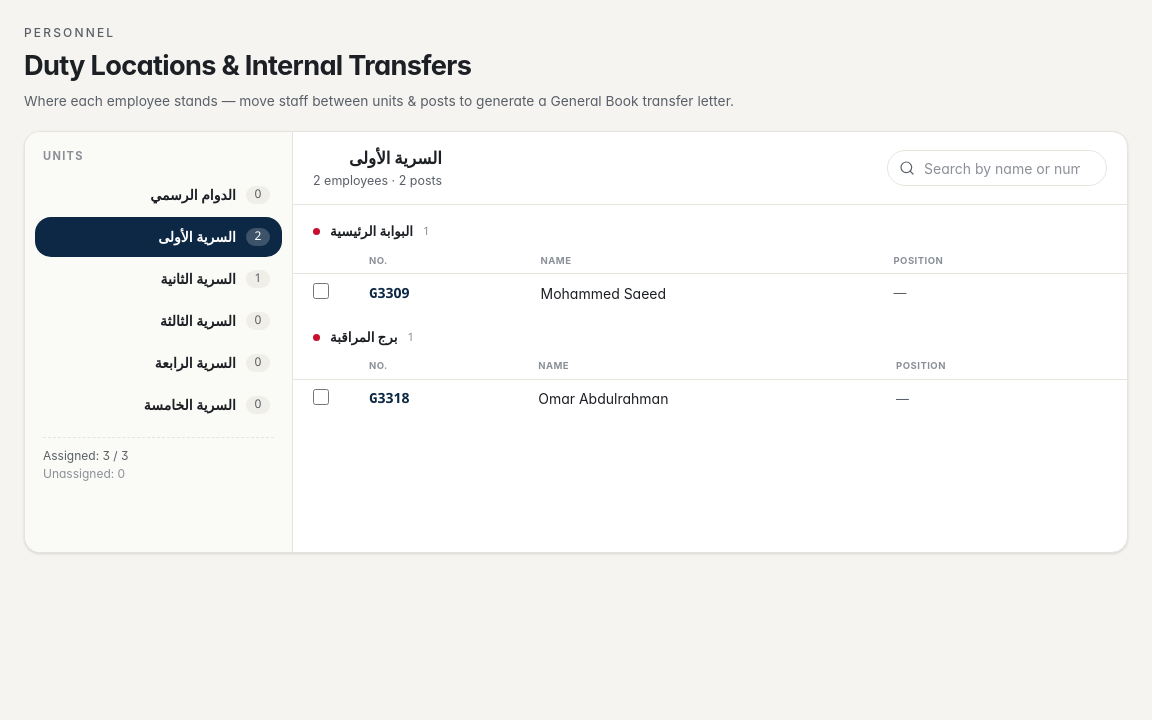
it: selection survives switching units and the tray drops an off-screen pick
Note: Two picks in السرية الأولى (the first populated unit, shown by default).
Step 1. Click the checkbox named "Select Mohammed Saeed" → (321,291), box [313,283,329,299]
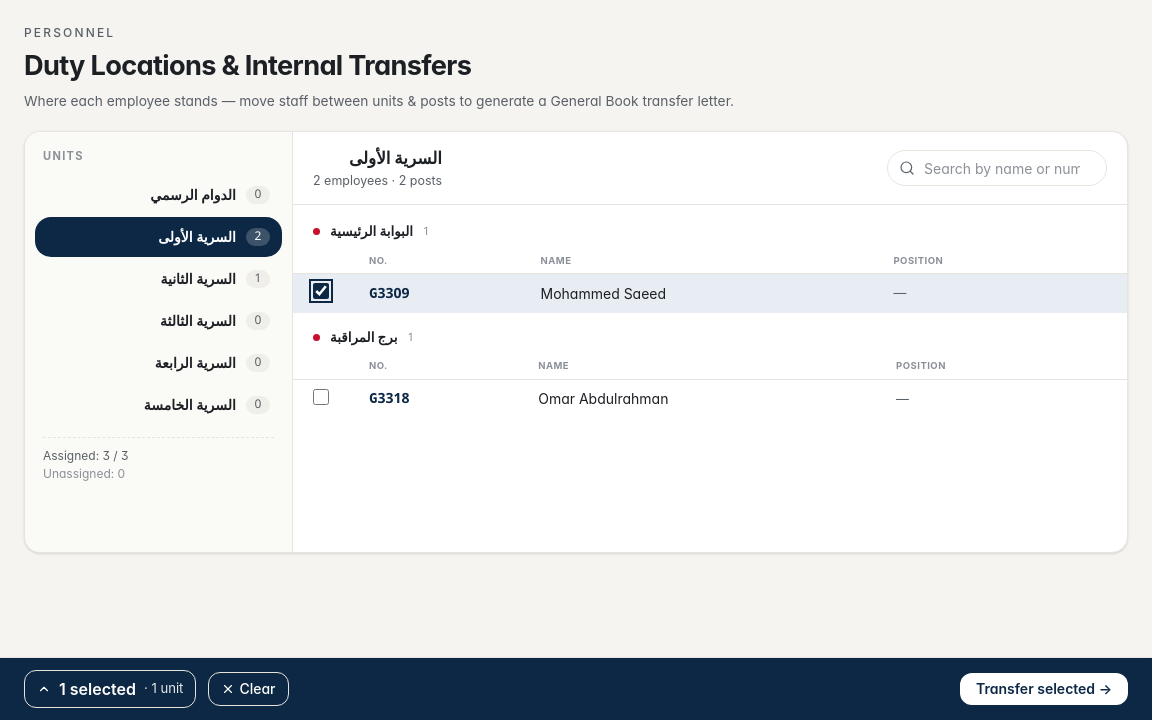
Step 2. Click the checkbox named "Select Omar Abdulrahman" → (321,397), box [313,389,329,405]
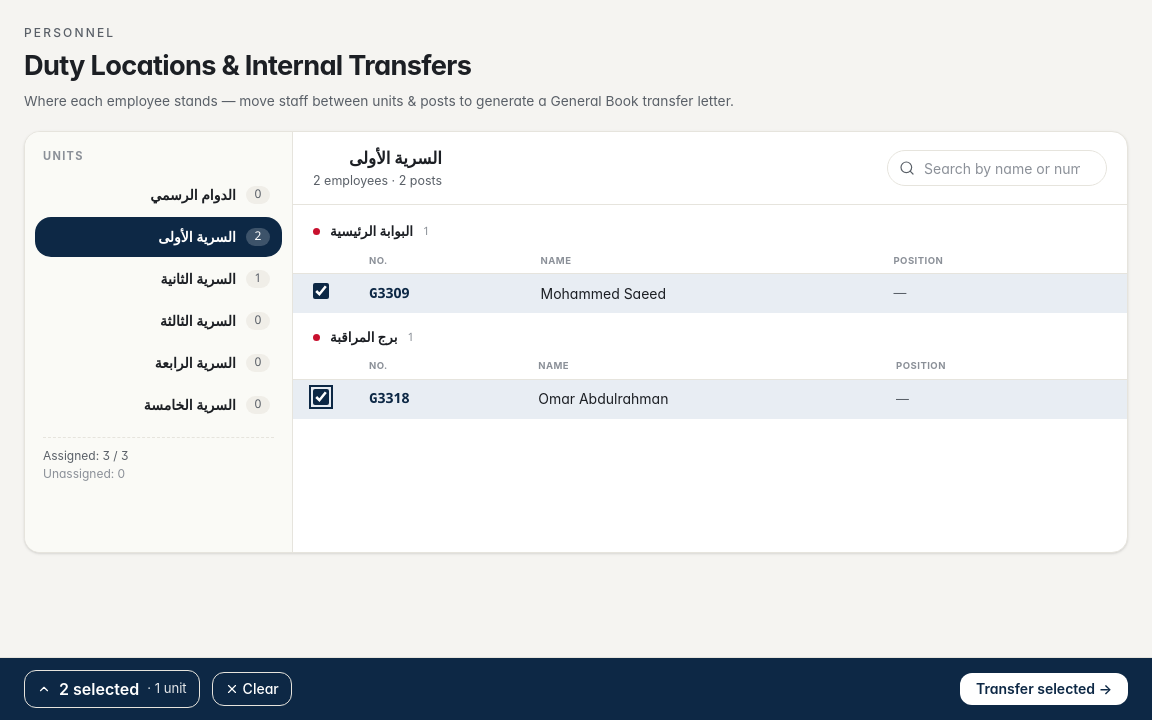
Expected: the button "2 selected · 1 unit" is shown, [24,670,200,708]
Note: Walk the rail — the basket must NOT be cleared.
Step 3. Click the button "السرية الثانية 1" → (158,279), box [35,259,282,299]
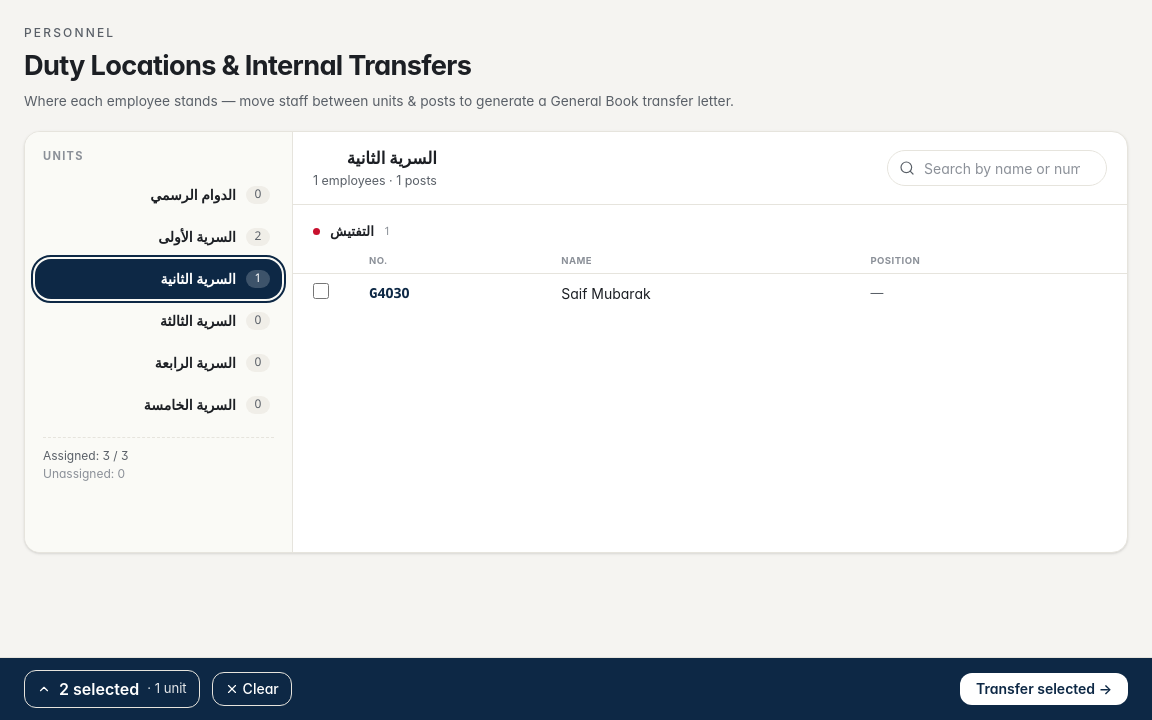
Expected: the button "2 selected · 1 unit" is shown, [24,670,200,708]
Expected: the checkbox named "Select Saif Mubarak" is shown
Note: Add one from this unit: 3 people across 2 units.
Step 4. Click the checkbox named "Select Saif Mubarak" → (321,291), box [313,283,329,299]
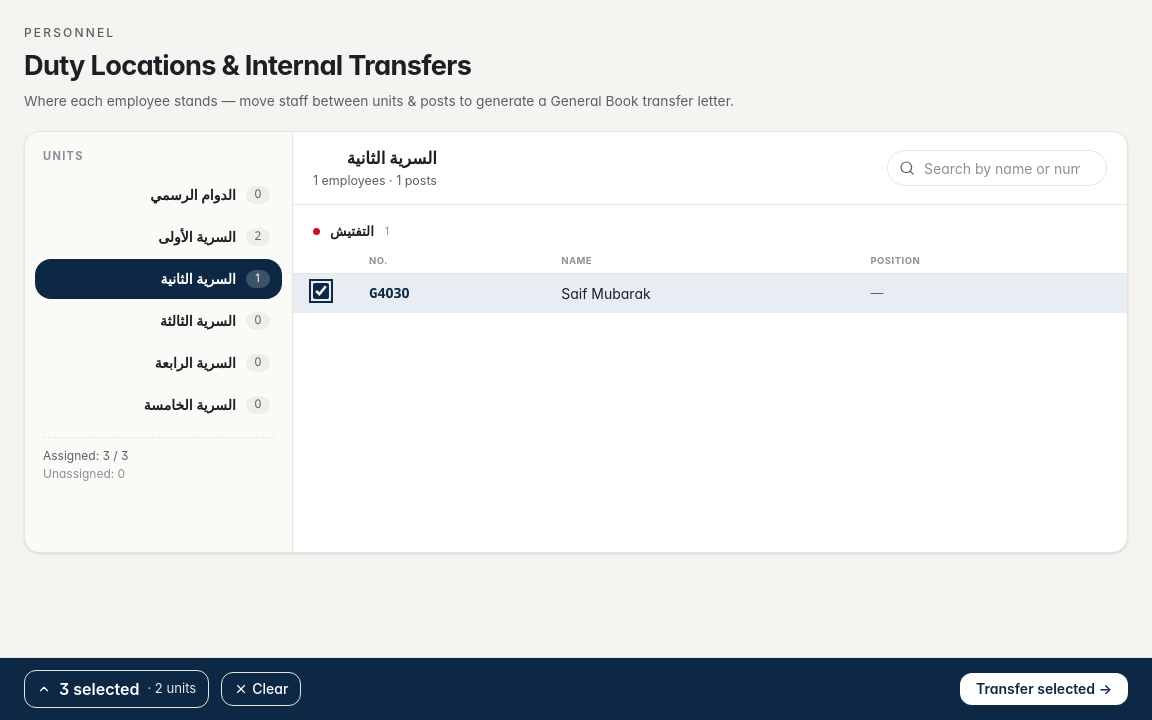
Note: Review the whole basket, grouped by current unit.
Step 5. Click the button "3 selected · 2 units" → (117,689), box [24,670,209,708]
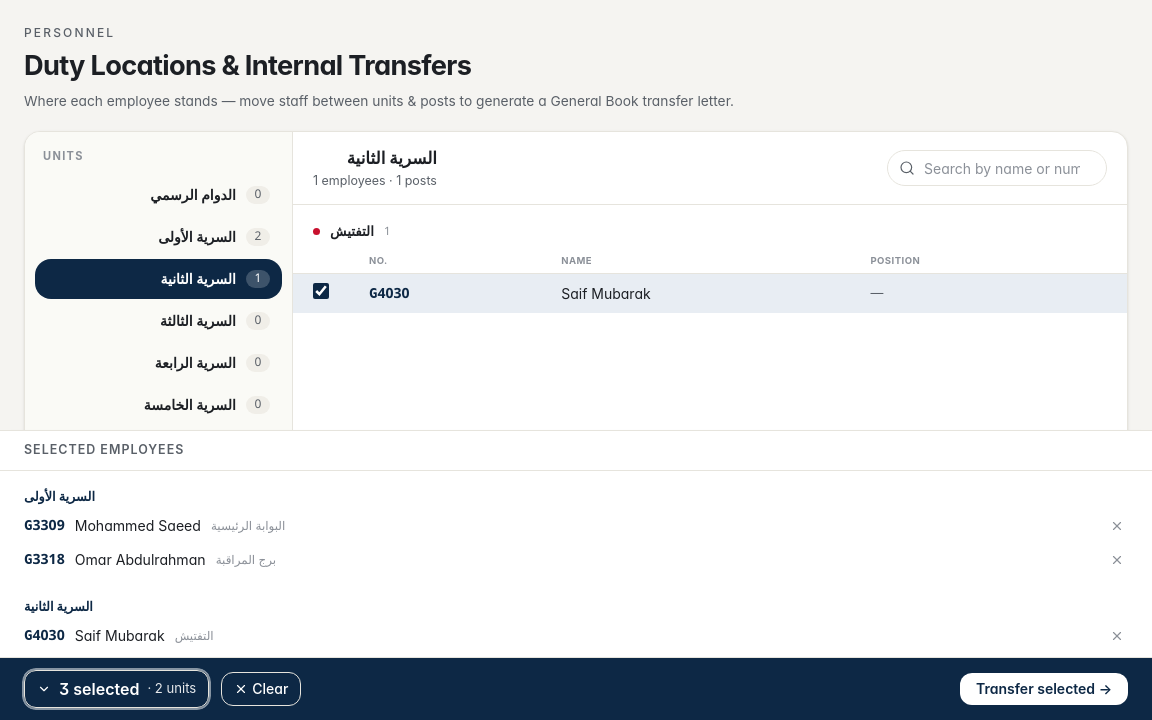
Expected: the text "G3309" is shown, [24,515,65,536]
Expected: the text "G4030" is shown, [24,625,65,646]
Expected: the text "السرية الأولى" below "Selected employees" is shown, [24,489,95,504]
Note: Drop someone from the unit we are NOT standing in.
Step 6. Click the button named "Remove Mohammed Saeed from the selection" → (1117,526), box [1106,515,1128,537]
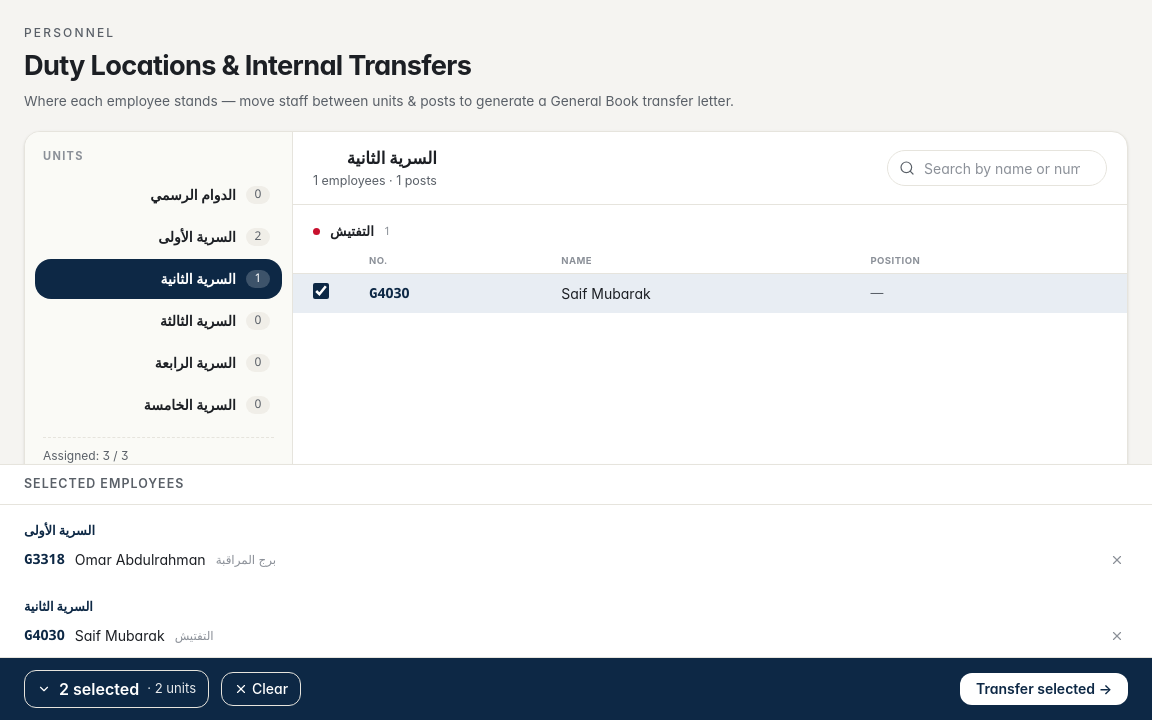
Expected: the text "G3309" is gone
Expected: the button "2 selected · 2 units" is shown, [24,670,209,708]
